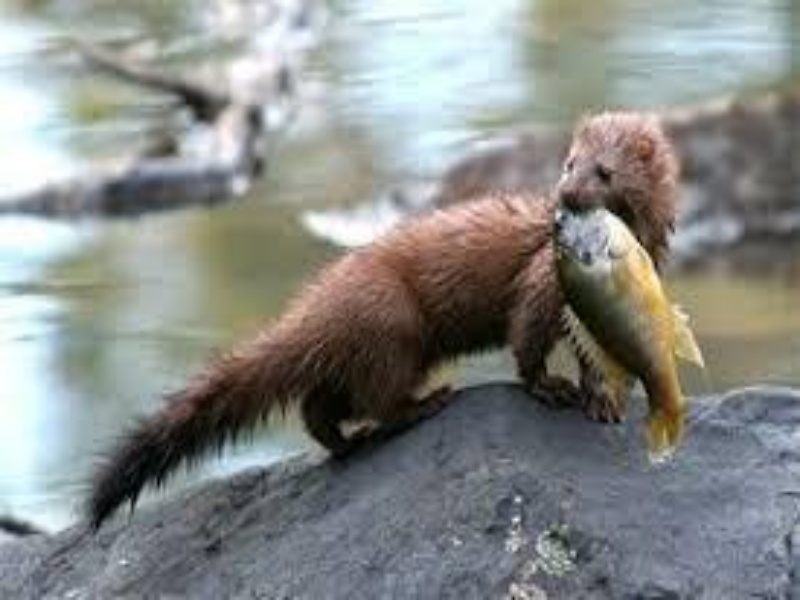minkish: (83, 104, 678, 544)
